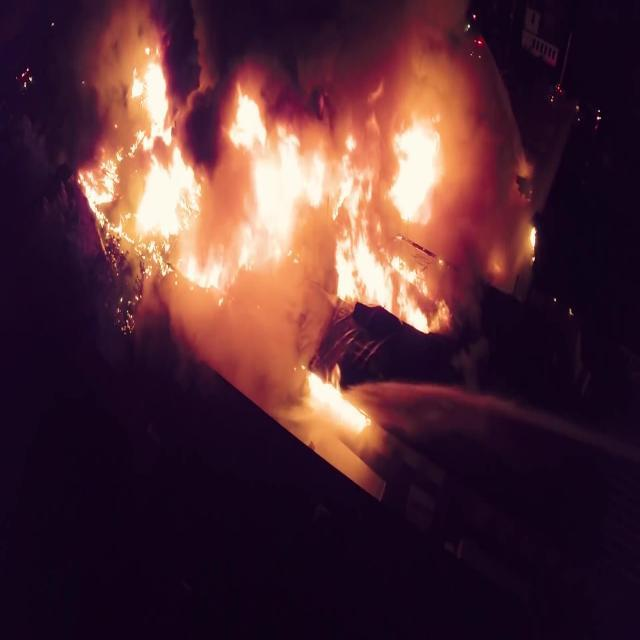Fire: (71, 46, 531, 328), (301, 369, 378, 437)
Smoke: (94, 0, 474, 172), (439, 0, 541, 271)
